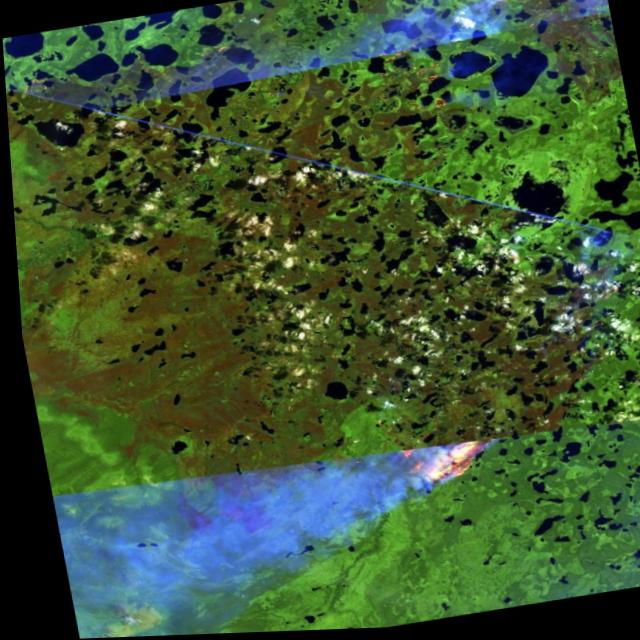fire: (369, 431, 501, 500), (473, 0, 531, 12)
